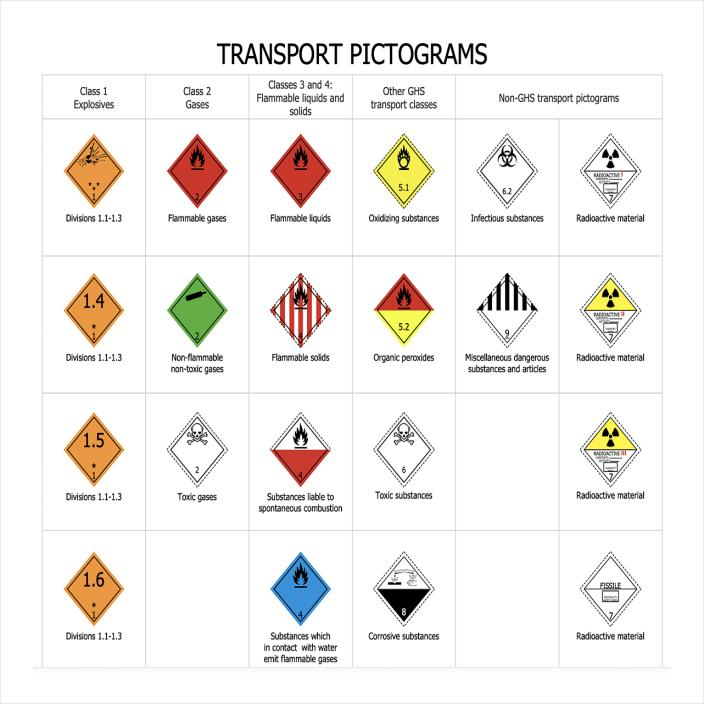bathroom sign: (65, 413, 122, 486), (65, 135, 122, 207), (65, 274, 122, 346), (65, 553, 122, 623)
bench: (169, 134, 226, 207)
building map: (168, 274, 226, 347)
camera: (168, 413, 227, 486)
can and bottle trash cans: (271, 136, 329, 207)
chair: (271, 274, 330, 347)
charging station: (271, 413, 329, 486)
clock: (271, 553, 329, 624)
defibrillator: (375, 134, 433, 207)
defibrillator sign: (377, 310, 429, 345)
door: (375, 413, 433, 486)
doors: (478, 134, 536, 208)
doorway: (581, 134, 640, 208), (582, 552, 640, 625), (582, 276, 640, 347), (582, 416, 640, 484)
elevator buttons: (375, 552, 433, 624)
elevator doors: (477, 273, 537, 347)
